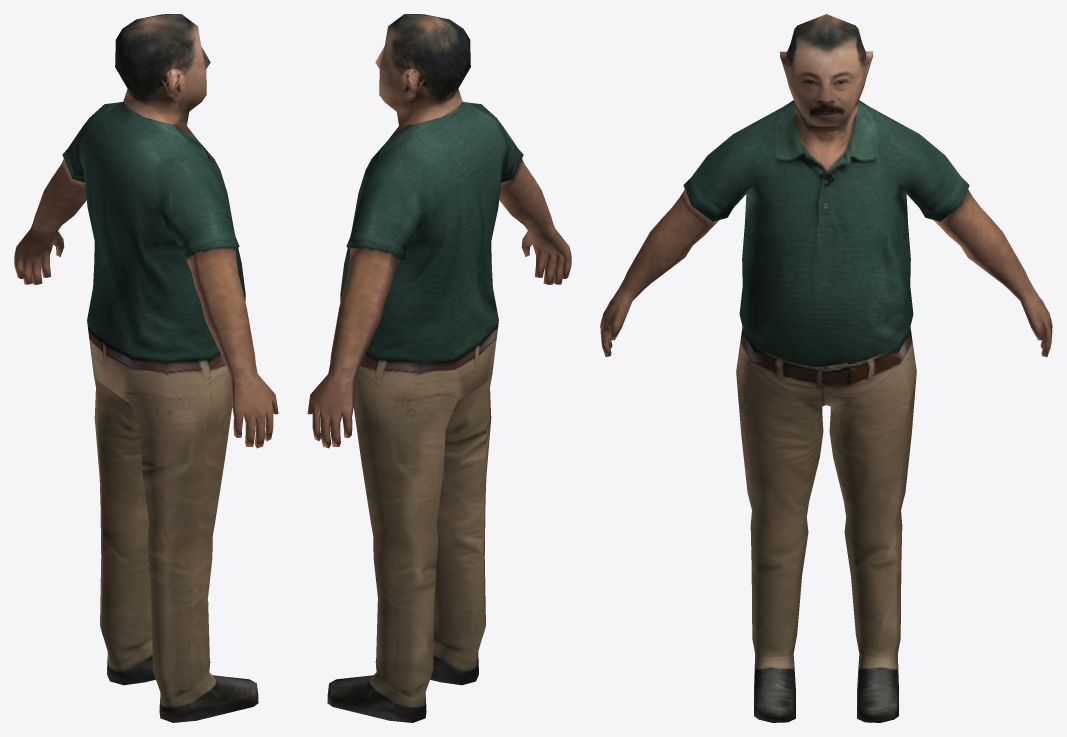
The model's file is Character_Male_35.fbx.
The picture shows the model from 3 angles, left to right: view 1: azimuth 30°, elevation 25°; view 2: azimuth 150°, elevation 25°; view 3: azimuth 270°, elevation 25°; orthographic projection.
Parts seen in each view (by area): view 1: Character_Male_35; view 2: Character_Male_35; view 3: Character_Male_35.
Part boxes in pixels (x1,y1,x2,y2): Character_Male_35: (14,14,278,722); Character_Male_35: (307,14,571,722); Character_Male_35: (600,14,1052,722).
Bounding box in the file's own units: 0.3445 × 1.75 × 1.07.
